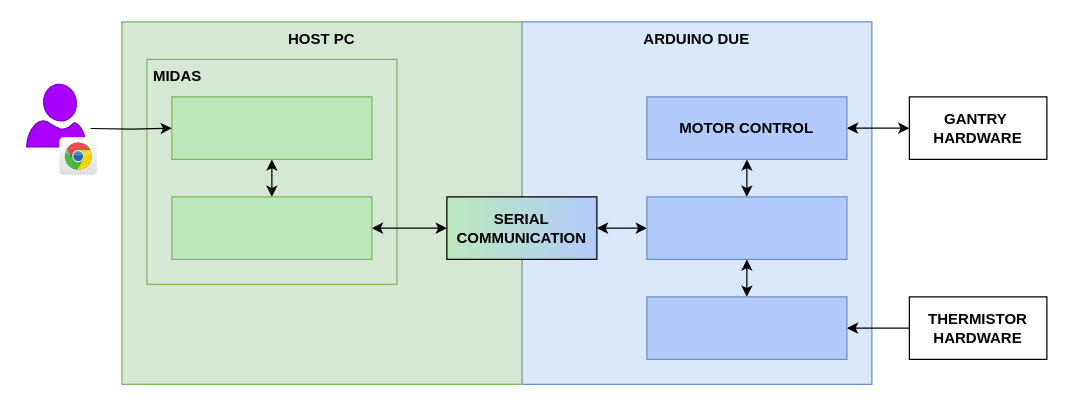
Some shapes in this 1069 by 406 pixel diagram are drawn without their labels. The centre of each missing label's shape, as x and y in pixels:
"ARDUINO FRONTEND" belongs at point 271,227.
"COMMAND HANDLING" belongs at point 746,227.
"SCAN FRONTEND" belongs at point 271,127.
"TEMPERATURE MEASUREMENT" belongs at point 746,327.
